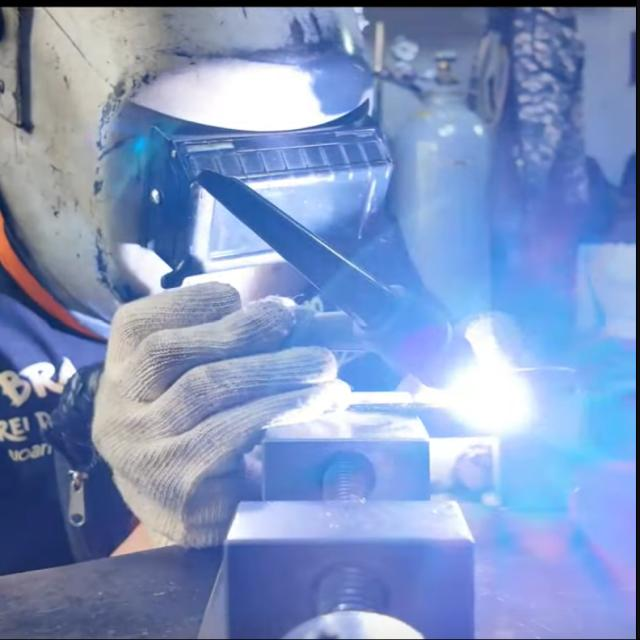welding: (446, 356, 543, 438)
